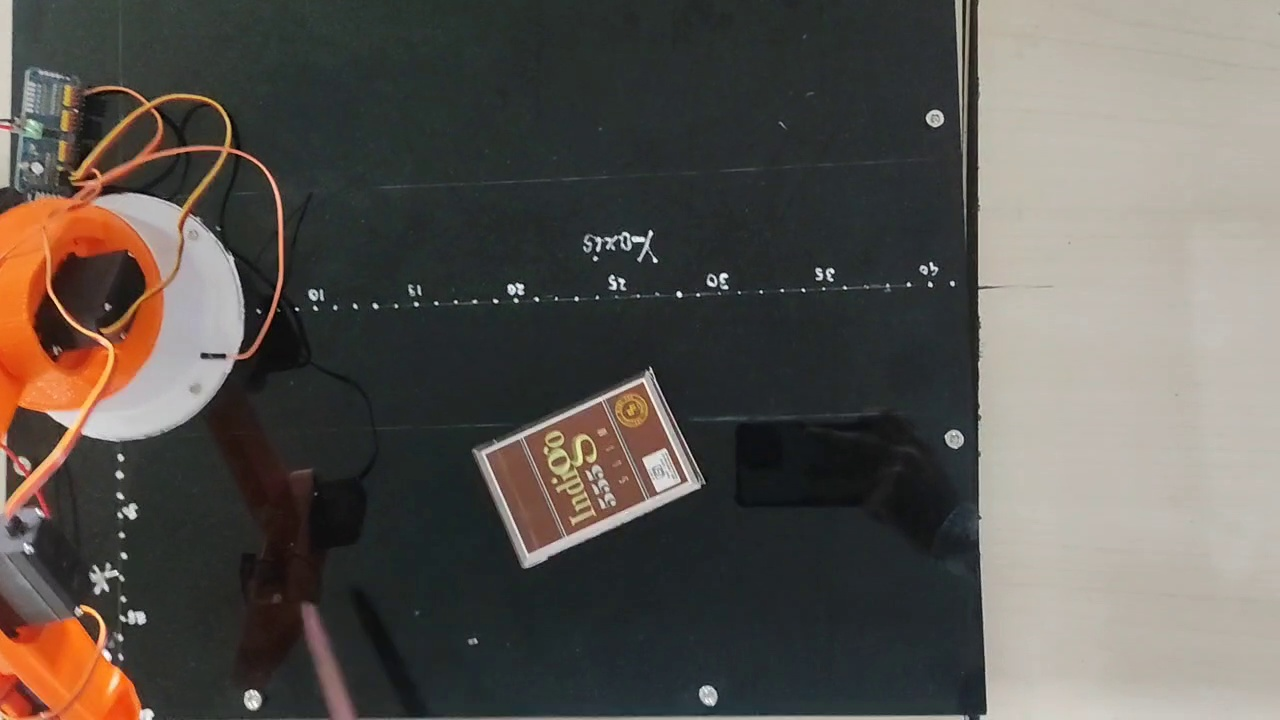BEX: (483, 378, 687, 559)
